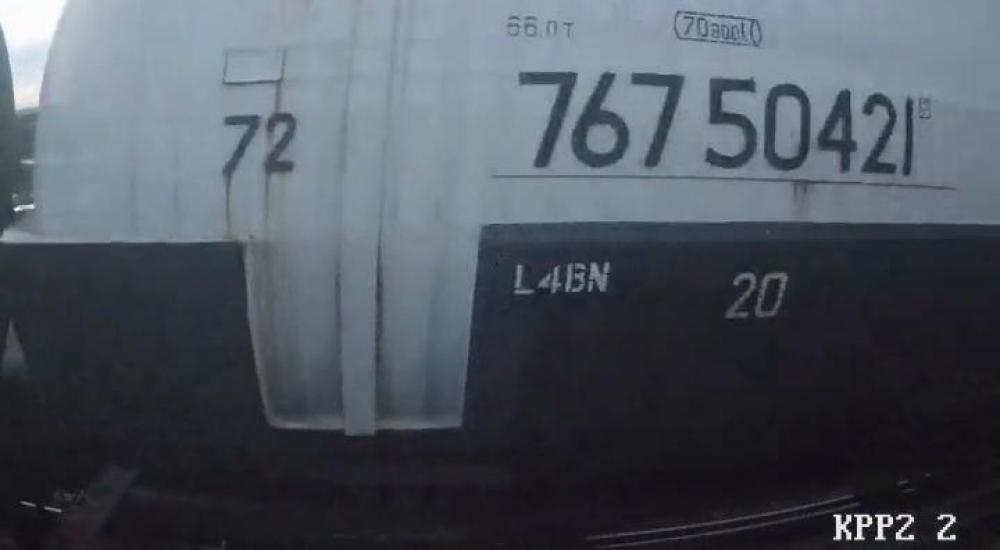Wagon-number: (512, 66, 920, 177)
